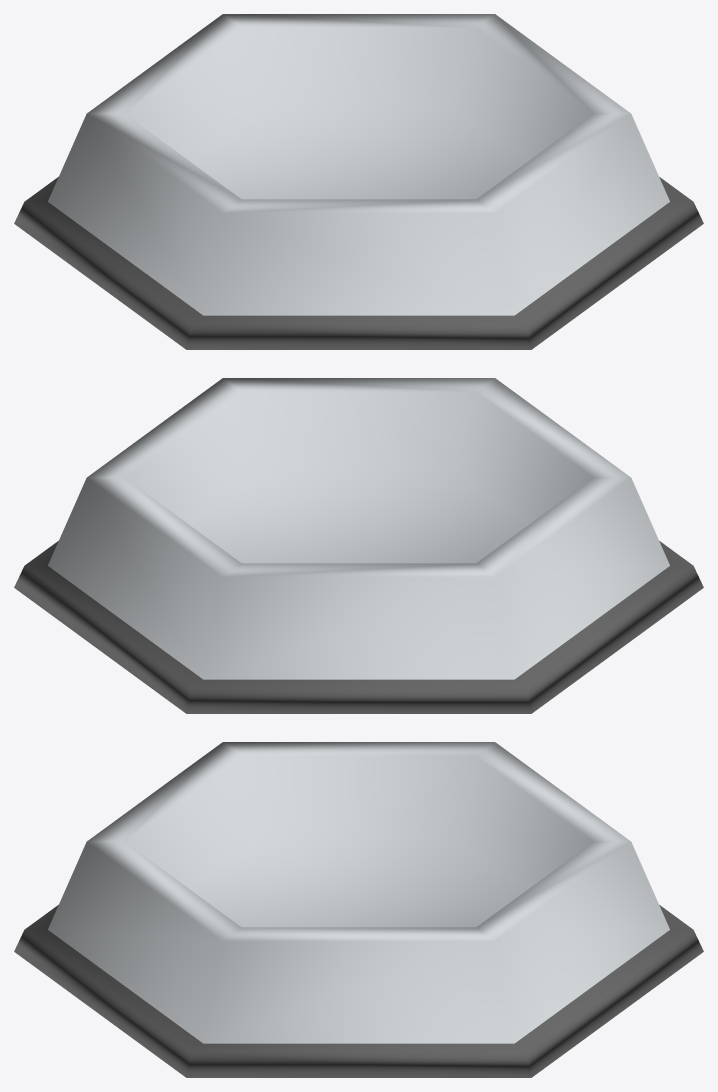
File: SM_PetBowl_01.obj
3 views of the same model, one above another, from view 1: azimuth 30°, elevation 25°; view 2: azimuth 150°, elevation 25°; view 3: azimuth 270°, elevation 25° (orthographic).
Parts seen in each view (by area): view 1: SM_PetBowl_01_Mat_SwatchOverlay_PolygonTown_01_Inst; view 2: SM_PetBowl_01_Mat_SwatchOverlay_PolygonTown_01_Inst; view 3: SM_PetBowl_01_Mat_SwatchOverlay_PolygonTown_01_Inst.
Part boxes in pixels (<box>): SM_PetBowl_01_Mat_SwatchOverlay_PolygonTown_01_Inst: <box>14,14,703,349</box>; SM_PetBowl_01_Mat_SwatchOverlay_PolygonTown_01_Inst: <box>14,378,703,713</box>; SM_PetBowl_01_Mat_SwatchOverlay_PolygonTown_01_Inst: <box>14,742,703,1077</box>.
Size of the model in its own units: 0.4595 by 0.0933 by 0.5306.
Materials: 1 (1 with a texture image).
